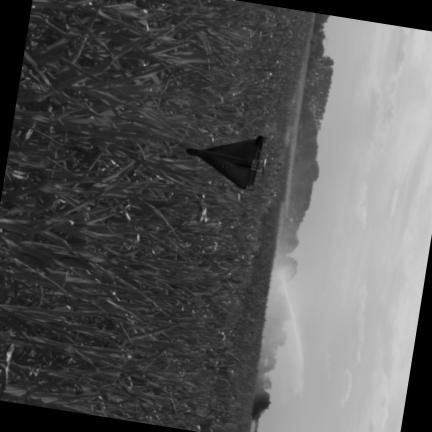Shahed: (187, 136, 265, 190)
